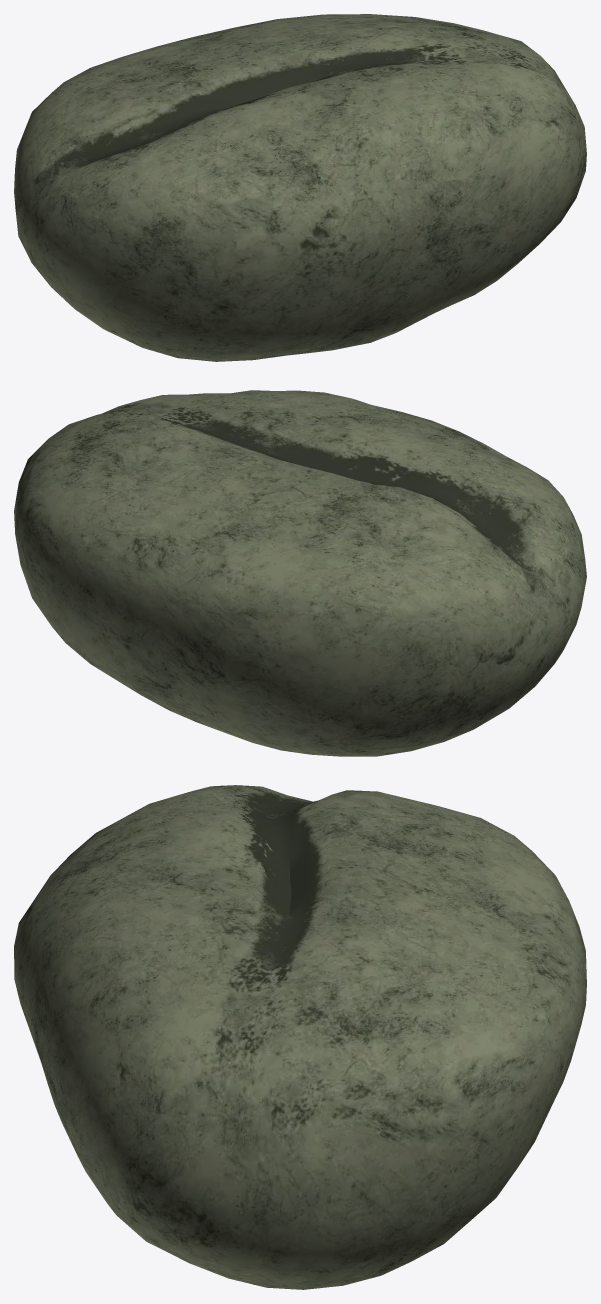
Rendered from bean-green.glb.
3 renders of one model, top to bottom at view 1: azimuth 30°, elevation 25°; view 2: azimuth 150°, elevation 25°; view 3: azimuth 270°, elevation 25°, orthographic. The views are drawn at different scales.
Visible parts, largest first — view 1: Default_Default_0; view 2: Default_Default_0; view 3: Default_Default_0.
Part boxes in pixels (x1=…): Default_Default_0: x1=14, y1=14, x2=586, y2=361; Default_Default_0: x1=14, y1=390, x2=586, y2=756; Default_Default_0: x1=14, y1=785, x2=586, y2=1289.
Size of the model in its own units: 1 by 0.4785 by 0.7227.
1 material, 1 textured.
